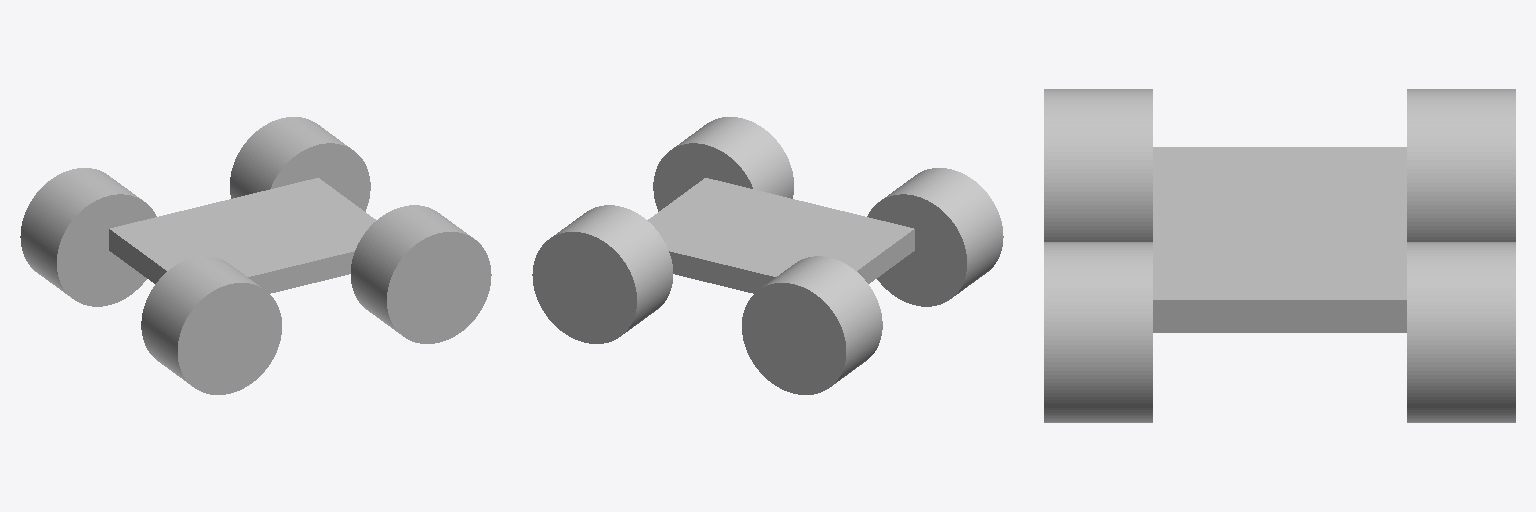
robot.urdf — Robot:
<?xml version="1.0" ?>
<robot name="Robot">
  <!--Generated by CROSS, a ROS Workbench for FreeCAD (https://github.com/galou/freecad.cross)-->
  <link name="Link_chassis">
    <visual>
      <!--chassis/Body.-->
      <origin xyz="0.0 0.0 0.0" rpy="0.0 -0.0 0.0"/>
      <geometry>
        <mesh filename="package://robot_ffc_1/meshes/Unnamed_Body.dae"/>
      </geometry>
    </visual>
    <collision>
      <!--chassis/Body.-->
      <origin xyz="0.0 0.0 0.0" rpy="0.0 -0.0 0.0"/>
      <geometry>
        <mesh filename="package://robot_ffc_1/meshes/Unnamed_Body.dae"/>
      </geometry>
    </collision>
    <inertial>
      <mass value="0.0742"/>
      <origin xyz="-1.05471e-19 5.37348e-20 0.005" rpy="0.0 -0.0 0.0"/>
      <inertia ixx="3.091666666666666e-05" ixy="-2.64515165326884e-21" ixz="0.0" iyy="6.245166666666667e-05" iyz="9.226397423844905e-24" izz="9.213166666666668e-05"/>
    </inertial>
  </link>
  <link name="Link_w_fr">
    <visual>
      <!--wheel/Body001.-->
      <origin xyz="0.0 0.0 0.0" rpy="0.0 -0.0 0.0"/>
      <geometry>
        <mesh filename="package://robot_ffc_1/meshes/Unnamed_Body001.dae"/>
      </geometry>
    </visual>
    <collision>
      <!--wheel/Body001.-->
      <origin xyz="0.0 0.0 0.0" rpy="0.0 -0.0 0.0"/>
      <geometry>
        <mesh filename="package://robot_ffc_1/meshes/Unnamed_Body001.dae"/>
      </geometry>
    </collision>
    <inertial>
      <mass value="0.062439153990097154"/>
      <origin xyz="2.47041e-18 8.80126e-20 0.015" rpy="0.0 -0.0 0.0"/>
      <inertia ixx="1.4439054360210115e-05" ixy="-1.8811642955437255e-22" ixz="-8.94651748239994e-22" iyy="1.4439054360209925e-05" iyz="9.228062957291355e-24" izz="1.9512235621905463e-05"/>
    </inertial>
  </link>
  <link name="Link_w_fl">
    <visual>
      <!--wheel/Body001.-->
      <origin xyz="0.0 0.0 0.0" rpy="0.0 -0.0 0.0"/>
      <geometry>
        <mesh filename="package://robot_ffc_1/meshes/Unnamed_Body001.dae"/>
      </geometry>
    </visual>
    <collision>
      <!--wheel/Body001.-->
      <origin xyz="0.0 0.0 0.0" rpy="0.0 -0.0 0.0"/>
      <geometry>
        <mesh filename="package://robot_ffc_1/meshes/Unnamed_Body001.dae"/>
      </geometry>
    </collision>
    <inertial>
      <mass value="0.062439153990097154"/>
      <origin xyz="2.47041e-18 8.80126e-20 0.015" rpy="0.0 -0.0 0.0"/>
      <inertia ixx="1.4439054360210115e-05" ixy="-1.8811642955437255e-22" ixz="-8.94651748239994e-22" iyy="1.4439054360209925e-05" iyz="9.228062957291355e-24" izz="1.9512235621905463e-05"/>
    </inertial>
  </link>
  <link name="Link_w_rr">
    <visual>
      <!--wheel/Body001.-->
      <origin xyz="0.0 0.0 0.0" rpy="0.0 -0.0 0.0"/>
      <geometry>
        <mesh filename="package://robot_ffc_1/meshes/Unnamed_Body001.dae"/>
      </geometry>
    </visual>
    <collision>
      <!--wheel/Body001.-->
      <origin xyz="0.0 0.0 0.0" rpy="0.0 -0.0 0.0"/>
      <geometry>
        <mesh filename="package://robot_ffc_1/meshes/Unnamed_Body001.dae"/>
      </geometry>
    </collision>
    <inertial>
      <mass value="0.062439153990097154"/>
      <origin xyz="2.47041e-18 8.80126e-20 0.015" rpy="0.0 -0.0 0.0"/>
      <inertia ixx="1.4439054360210115e-05" ixy="-1.8811642955437255e-22" ixz="-8.94651748239994e-22" iyy="1.4439054360209925e-05" iyz="9.228062957291355e-24" izz="1.9512235621905463e-05"/>
    </inertial>
  </link>
  <link name="Link_w_rl">
    <visual>
      <!--wheel/Body001.-->
      <origin xyz="0.0 0.0 0.0" rpy="0.0 -0.0 0.0"/>
      <geometry>
        <mesh filename="package://robot_ffc_1/meshes/Unnamed_Body001.dae"/>
      </geometry>
    </visual>
    <collision>
      <!--wheel/Body001.-->
      <origin xyz="0.0 0.0 0.0" rpy="0.0 -0.0 0.0"/>
      <geometry>
        <mesh filename="package://robot_ffc_1/meshes/Unnamed_Body001.dae"/>
      </geometry>
    </collision>
    <inertial>
      <mass value="0.062439153990097154"/>
      <origin xyz="2.47041e-18 8.80126e-20 0.015" rpy="0.0 -0.0 0.0"/>
      <inertia ixx="1.4439054360210115e-05" ixy="-1.8811642955437255e-22" ixz="-8.94651748239994e-22" iyy="1.4439054360209925e-05" iyz="9.228062957291355e-24" izz="1.9512235621905463e-05"/>
    </inertial>
  </link>
  <joint name="Joint_fr" type="continuous">
    <parent link="Link_chassis"/>
    <child link="Link_w_fr"/>
    <origin xyz="0.05 -0.035 0.0" rpy="1.5707963267948966 -0.0 0.0"/>
    <axis xyz="0 0 1"/>
  </joint>
  <joint name="Joint_fl" type="continuous">
    <parent link="Link_chassis"/>
    <child link="Link_w_fl"/>
    <origin xyz="0.05 0.035 0.0" rpy="-1.5707963267948966 0.0 0.0"/>
    <axis xyz="0 0 1"/>
  </joint>
  <joint name="Joint_rr" type="continuous">
    <parent link="Link_chassis"/>
    <child link="Link_w_rr"/>
    <origin xyz="-0.05 -0.035 0.0" rpy="1.5707963267948966 -0.0 0.0"/>
    <axis xyz="0 0 1"/>
  </joint>
  <joint name="Joint_rl" type="continuous">
    <parent link="Link_chassis"/>
    <child link="Link_w_rl"/>
    <origin xyz="-0.05 0.035 0.0" rpy="-1.5707963267948966 0.0 0.0"/>
    <axis xyz="0 0 1"/>
  </joint>
</robot>

--- What the picture shows (computed from the rendered views, not written in the file) ---
The picture shows the robot from 3 angles, left to right: view 1: azimuth 30°, elevation 25°; view 2: azimuth 150°, elevation 25°; view 3: azimuth 270°, elevation 25°; orthographic projection.
Robot: Robot — 5 links, 4 joints (4 continuous); root link Link_chassis; default pose: every joint at zero.
Visible links, largest first — view 1: Link_chassis, Link_w_rr, Link_w_fr, Link_w_rl, Link_w_fl; view 2: Link_chassis, Link_w_rl, Link_w_fl, Link_w_rr, Link_w_fr; view 3: Link_chassis, Link_w_fr, Link_w_fl, Link_w_rr, Link_w_rl.
Boxes of the visible links, box(x1,y1,x2,y2) form: Link_chassis: box(109, 178, 376, 293); Link_w_rr: box(141, 256, 281, 394); Link_w_fr: box(351, 205, 491, 343); Link_w_rl: box(20, 168, 156, 306); Link_w_fl: box(230, 117, 370, 211); Link_chassis: box(647, 178, 914, 293); Link_w_rl: box(742, 256, 882, 394); Link_w_fl: box(532, 205, 672, 343); Link_w_rr: box(867, 168, 1003, 306); Link_w_fr: box(653, 117, 793, 211); Link_chassis: box(1153, 147, 1406, 332); Link_w_fr: box(1044, 242, 1152, 422); Link_w_fl: box(1407, 242, 1515, 422); Link_w_rr: box(1044, 89, 1152, 241); Link_w_rl: box(1407, 89, 1515, 241).
Size in the robot's own frame: 0.15 by 0.13 by 0.05 metres.
5 mesh visuals loaded from 2 distinct referenced files (2 Collada DAE).